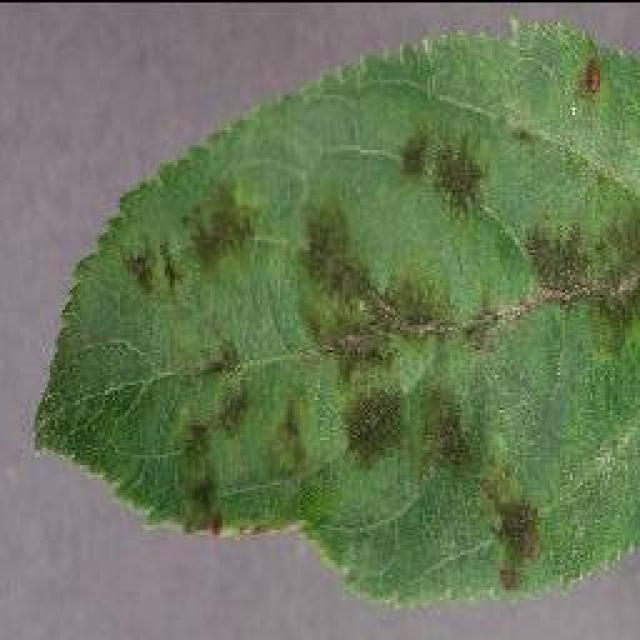apple scab disease: (30, 15, 638, 607)
